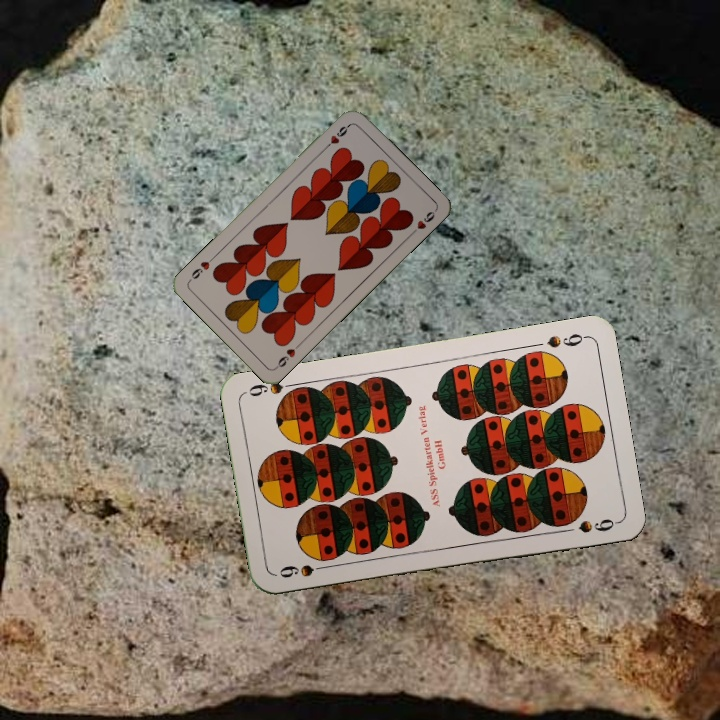H9: (271, 339, 304, 371), (320, 120, 353, 152)
S9: (275, 560, 333, 581), (542, 329, 589, 351)
